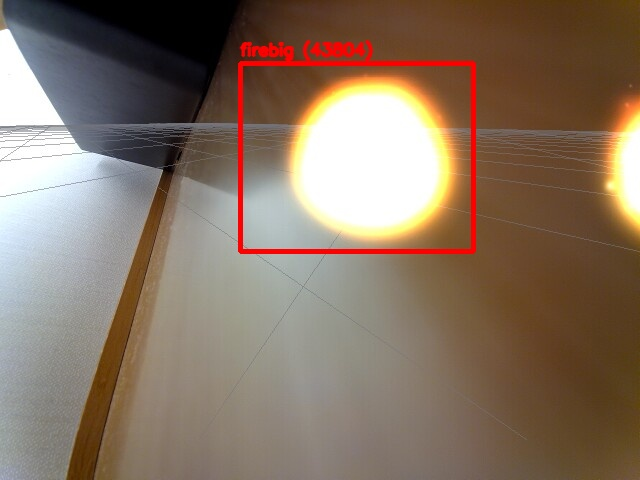firebig: (240, 63, 473, 251)
